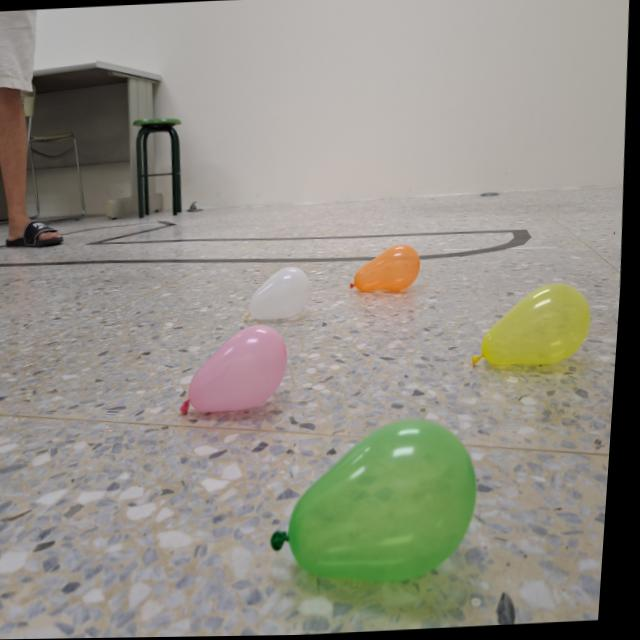other: (271, 416, 491, 591), (182, 322, 297, 422), (473, 284, 597, 373), (244, 264, 318, 324), (350, 244, 425, 296)
